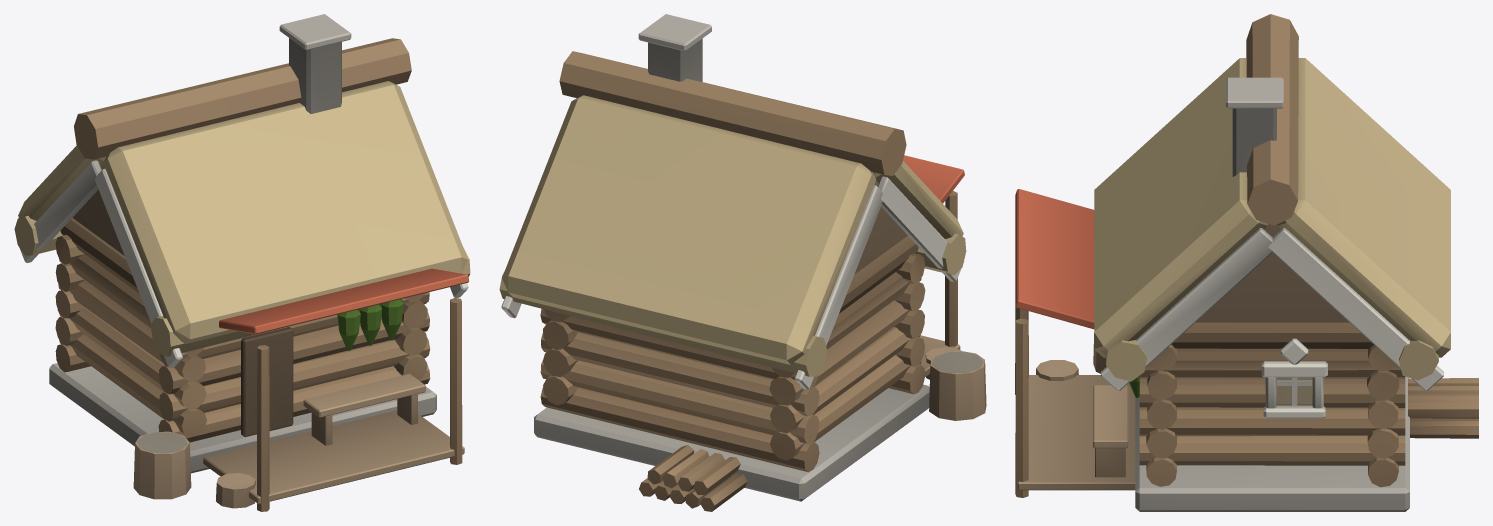
The model's file is bld_banya.glb.
3 views of the same model, side by side, from view 1: azimuth 30°, elevation 25°; view 2: azimuth 150°, elevation 25°; view 3: azimuth 270°, elevation 25° (orthographic). The views are drawn at different scales.
Parts seen in each view (by area): view 1: banya; view 2: banya; view 3: banya.
Part boxes in pixels (x1,y1,x2,y2): banya: [14, 14, 470, 511]; banya: [499, 14, 986, 511]; banya: [1015, 14, 1478, 511].
Size of the model in its own units: 0.9292 by 0.97 by 1.05.
